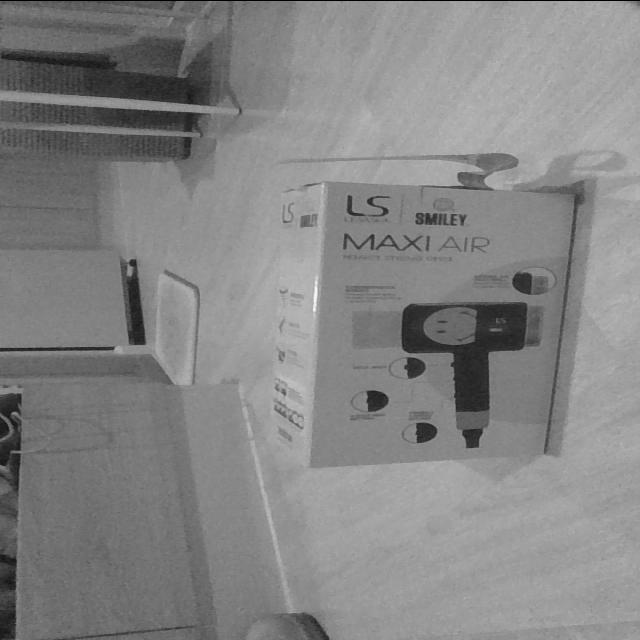Dryer: (263, 178, 581, 470)
